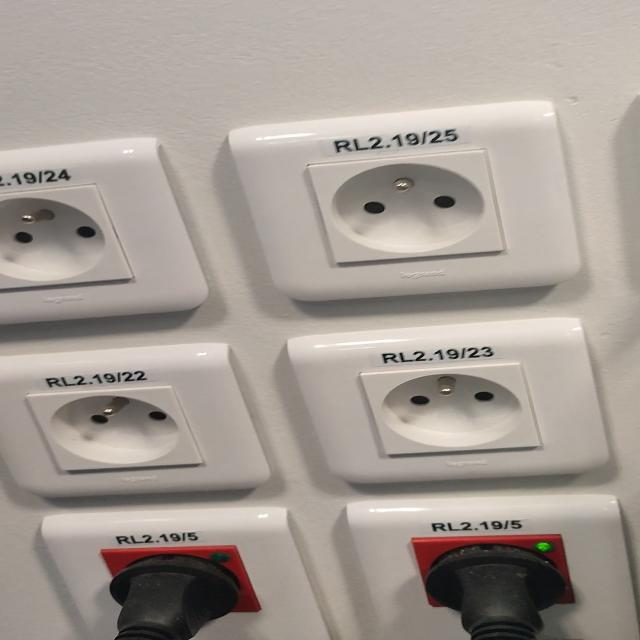house plug: (308, 149, 507, 264), (360, 362, 545, 456), (29, 385, 206, 471), (0, 183, 134, 290)
